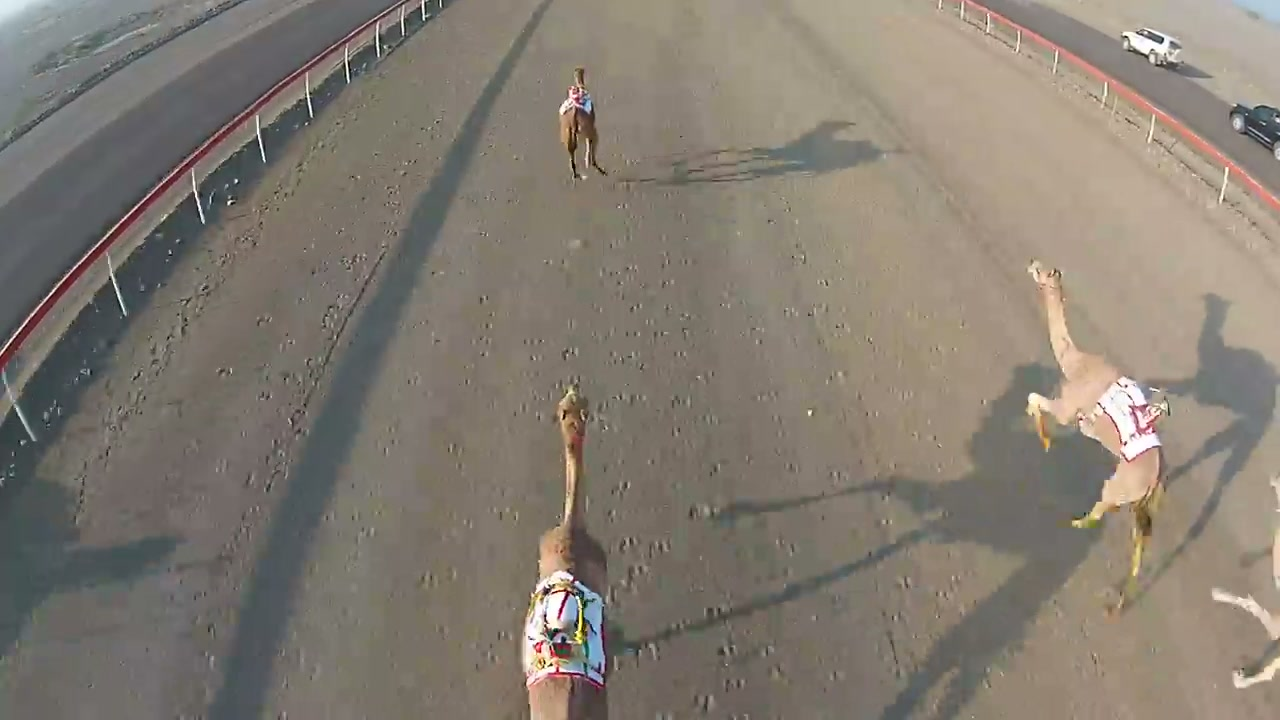animal_foot_print: (562, 177, 777, 695)
